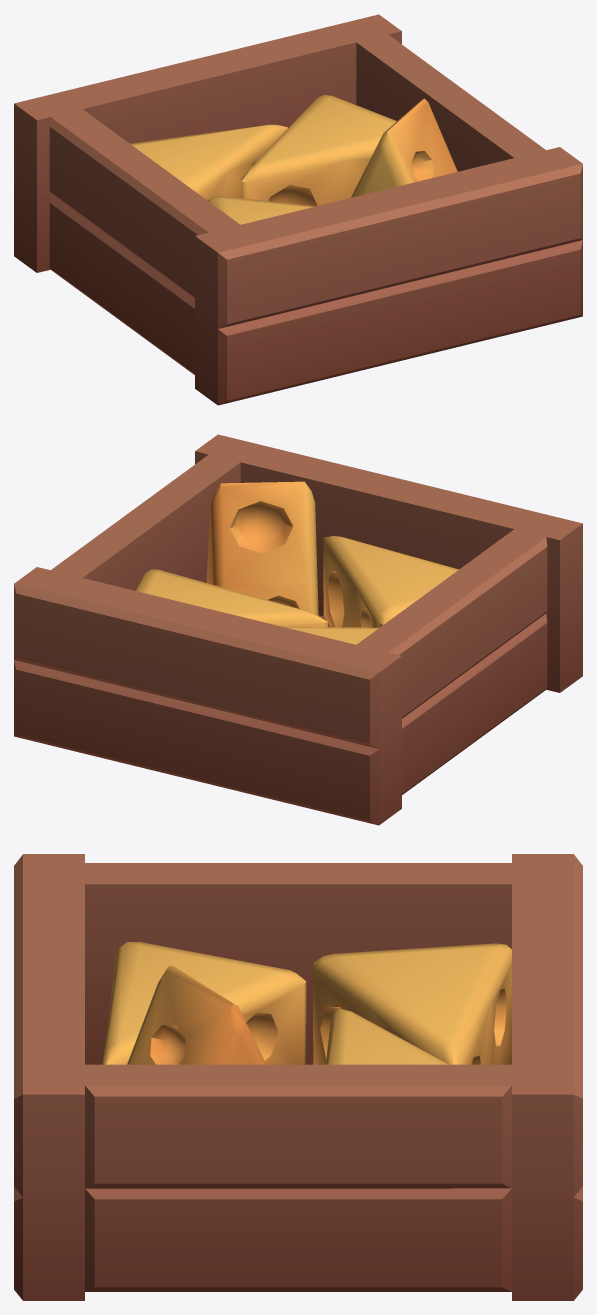
The model's file is crate-cheese.glb.
3 views of the same model, one above another, from view 1: azimuth 30°, elevation 25°; view 2: azimuth 150°, elevation 25°; view 3: azimuth 270°, elevation 25° (orthographic). The views are drawn at different scales.
Parts seen in each view (by area): view 1: crate_cheese; view 2: crate_cheese; view 3: crate_cheese.
Part boxes in pixels (x1,y1,x2,y2): crate_cheese: (14,14,582,405); crate_cheese: (14,434,582,825); crate_cheese: (14,854,582,1300).
Bounding box in the file's own units: 2 × 0.9459 × 2.
Materials: 1 (1 with a texture image).
